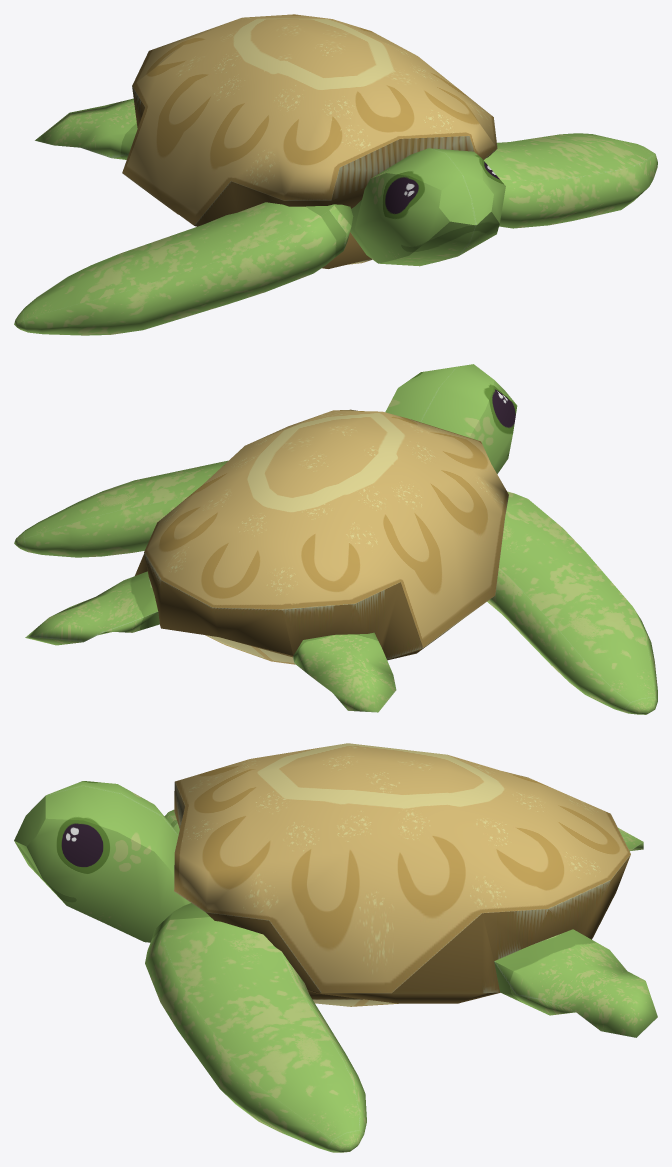
Rendered from swim_turtle-pP5JLK4m.glb.
3 renders of one model, top to bottom at view 1: azimuth 30°, elevation 25°; view 2: azimuth 150°, elevation 25°; view 3: azimuth 270°, elevation 25°, orthographic. The views are drawn at different scales.
Parts seen in each view (by area): view 1: Turtle; view 2: Turtle; view 3: Turtle.
Part boxes in pixels (<box>): Turtle: <box>14,14,657,335</box>; Turtle: <box>14,364,657,714</box>; Turtle: <box>14,743,657,1152</box>.
Size of the model in its own units: 1.1 by 0.348 by 0.8564.
3 materials, 3 textured.
